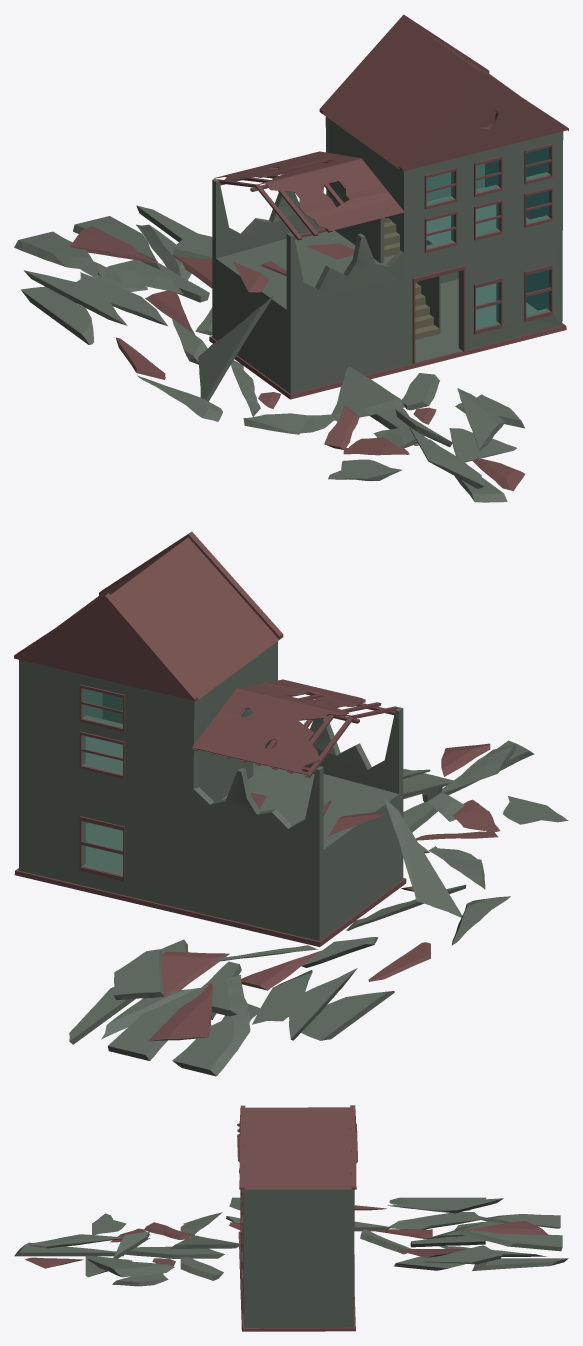
Rendered from house6.fbx.
The picture shows the model from 3 angles, top to bottom: view 1: azimuth 30°, elevation 25°; view 2: azimuth 150°, elevation 25°; view 3: azimuth 270°, elevation 25°; orthographic projection. The views are drawn at different scales.
Parts seen in each view (by area): view 1: polySurface13; view 2: polySurface13; view 3: polySurface13.
Part boxes in pixels (left/top/right/bottom): polySurface13: left=14, top=14, right=568, bottom=502; polySurface13: left=14, top=531, right=568, bottom=1076; polySurface13: left=14, top=1105, right=568, bottom=1331.
Bounding box in the file's own units: 1535 × 1089 × 2748.
